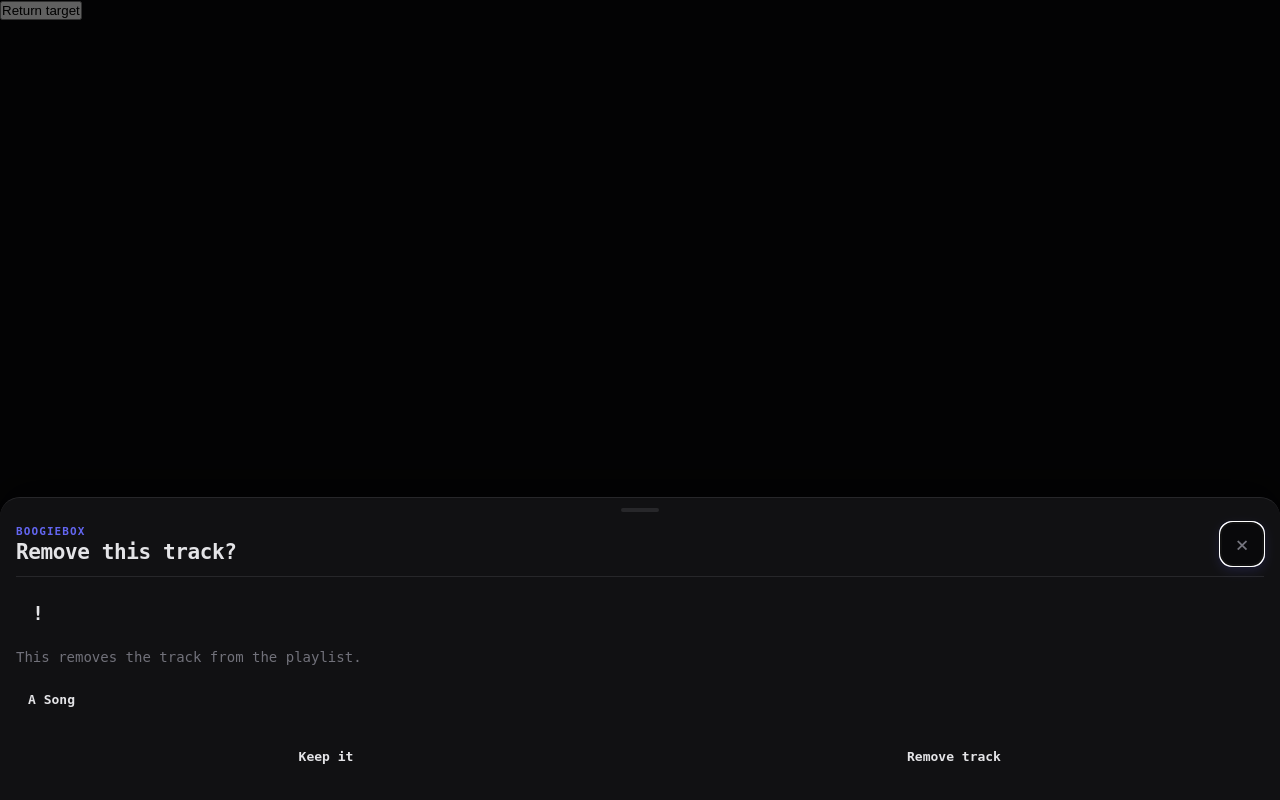
MobileConfirmationSheet › uses alert-dialog semantics and keeps the safe action touch-sized
The image size is (1280, 800).
Expected: the dialog "Remove this track?" is shown, [0,497,1279,799]
Expected: the text "A Song" is shown, [28,692,75,707]
Click the button "Keep it". click: (326, 756)
box: [16,730,636,782]
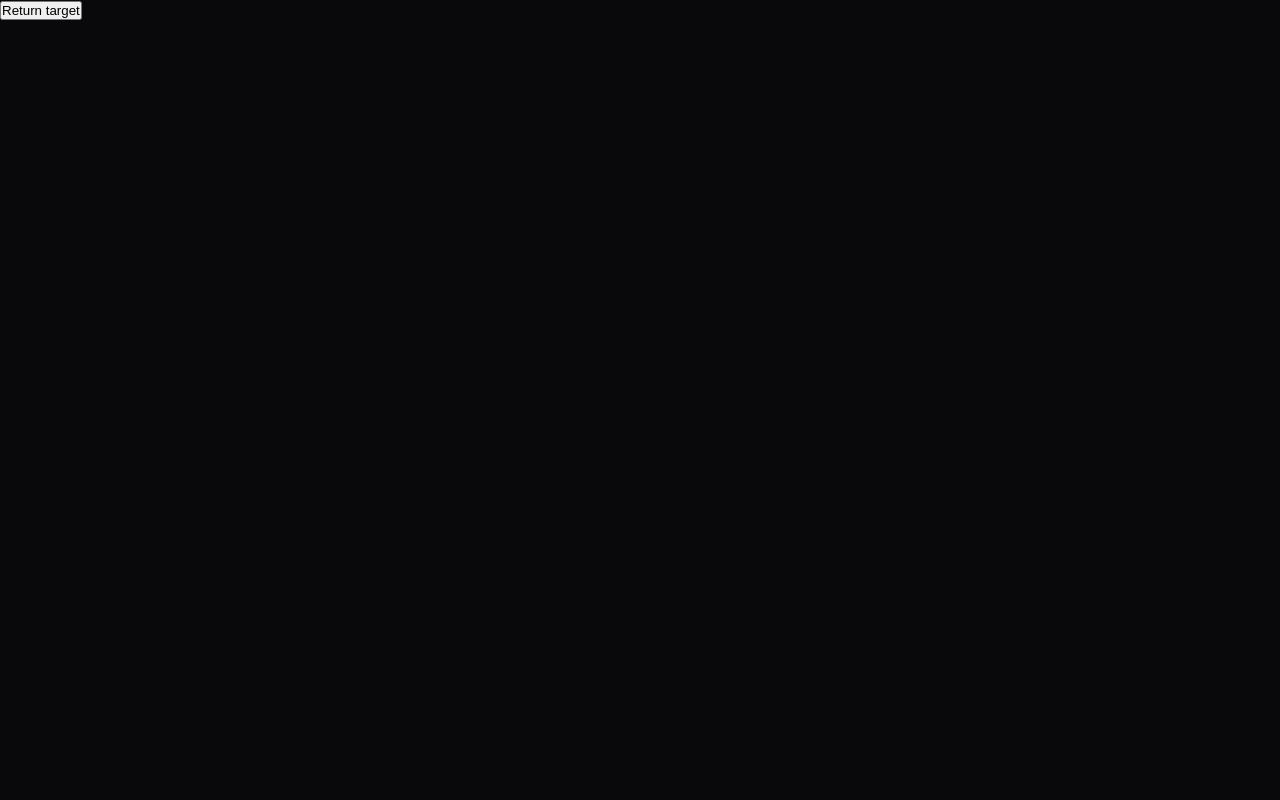
Expected: the dialog is gone
